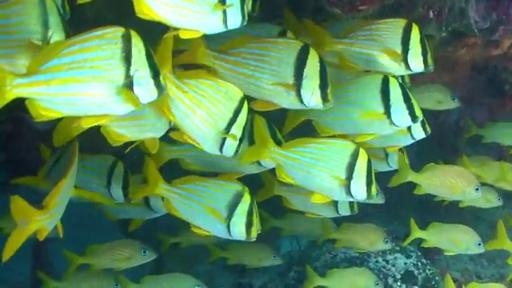Fish: (0, 26, 165, 127), (176, 36, 332, 111), (156, 33, 248, 156), (131, 157, 260, 240), (282, 67, 423, 141), (241, 130, 376, 202), (285, 11, 434, 75), (2, 141, 79, 262), (0, 0, 66, 74), (256, 172, 358, 217), (134, 0, 252, 38), (388, 155, 481, 200), (150, 142, 275, 175), (100, 96, 171, 152), (150, 142, 268, 175), (64, 239, 157, 275), (404, 219, 485, 255), (73, 155, 130, 204), (76, 155, 131, 203), (204, 23, 293, 50), (100, 196, 168, 231), (260, 210, 336, 239), (359, 118, 431, 147), (320, 223, 392, 251), (208, 243, 283, 268), (458, 156, 511, 190), (303, 265, 384, 287), (156, 229, 221, 251), (38, 272, 123, 287), (411, 84, 460, 110), (119, 273, 207, 287), (466, 120, 511, 145), (459, 186, 503, 208), (365, 148, 407, 171), (485, 220, 511, 253), (0, 213, 16, 235), (465, 282, 507, 287), (444, 273, 456, 287)
